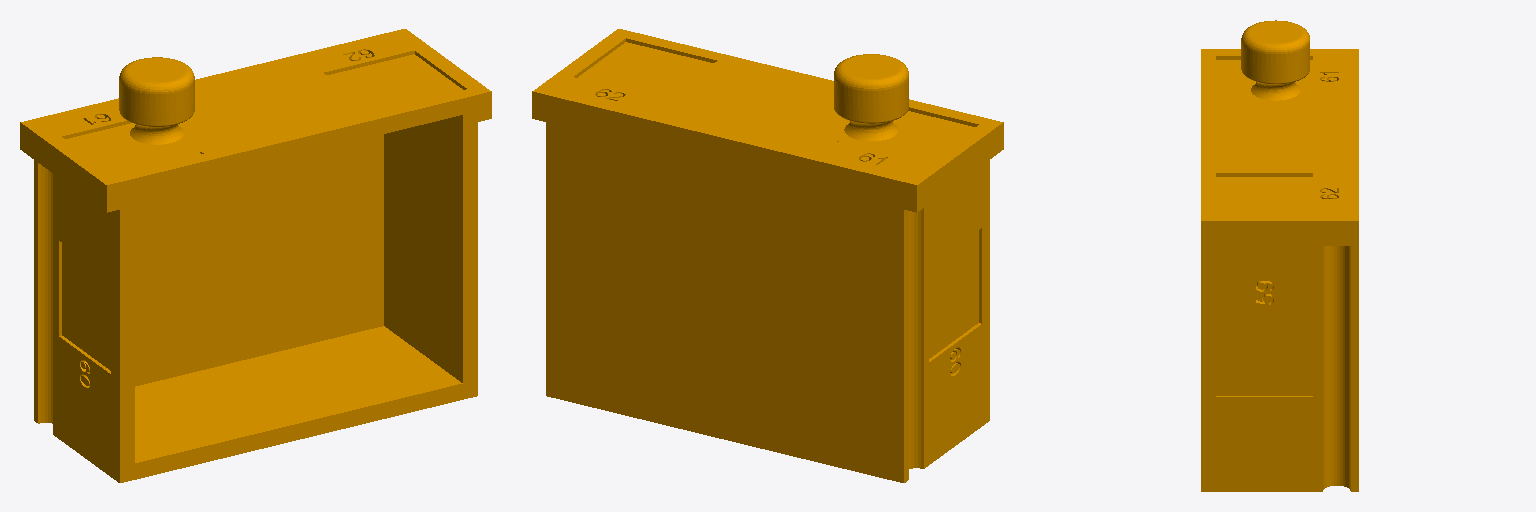
The robot description file, URDF, robot "drawer_bottom_2":
<?xml version="1.0"?>
<robot name="drawer_bottom_2">
    <link name="drawer_bottom_2">
        <visual>
            <geometry>
                <mesh filename="../../mesh/drawer/drawer_bottom_2.obj" scale="1 1 1"/>
            </geometry>
        </visual>
        <collision>
            <geometry>
                <mesh filename="../../mesh/drawer/drawer_bottom_2.obj" scale="1 1 1"/>
            </geometry>
            <sdf resolution="512"/>
        </collision>
    </link>
</robot>

--- Facts derived from the render (not from the file) ---
The picture shows the robot from 3 angles, left to right: view 1: azimuth 30°, elevation 25°; view 2: azimuth 150°, elevation 25°; view 3: azimuth 270°, elevation 25°; orthographic projection.
Model drawer_bottom_2 with 1 links and 0 joints (none), rooted at drawer_bottom_2, posed every joint at zero.
Links seen in each view (by area): view 1: drawer_bottom_2; view 2: drawer_bottom_2; view 3: drawer_bottom_2.
Boxes of the visible links, bbox=[...] form: drawer_bottom_2: bbox=[20, 29, 491, 482]; drawer_bottom_2: bbox=[532, 29, 1003, 482]; drawer_bottom_2: bbox=[1201, 20, 1358, 491].
Size in the robot's own frame: 0.1103 by 0.0428 by 0.0997 metres.
Meshes: 1 distinct files referenced, 1 mesh visuals loaded (1 OBJ).